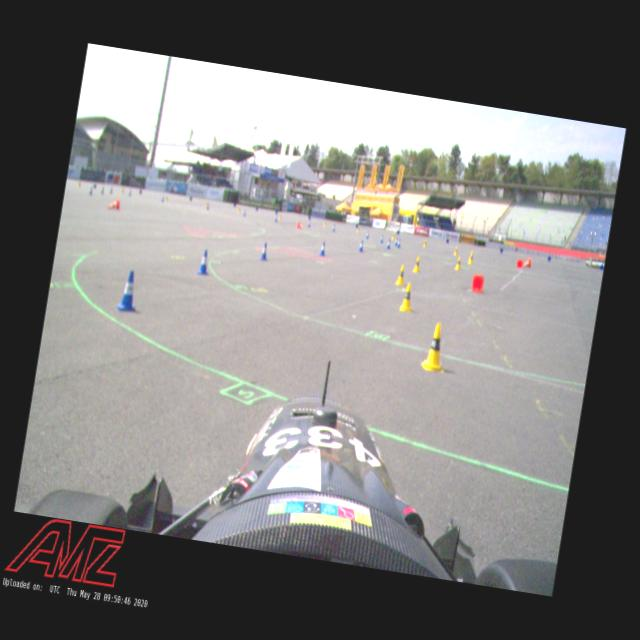blue_cone: (116, 268, 142, 314), (196, 248, 212, 276), (258, 241, 270, 262), (319, 240, 328, 256), (358, 240, 365, 252), (386, 238, 392, 250), (396, 238, 402, 249), (365, 230, 370, 240), (394, 237, 399, 246), (380, 233, 384, 243), (547, 255, 552, 262), (274, 215, 279, 222), (332, 224, 336, 232), (307, 220, 311, 228), (500, 246, 504, 253), (446, 238, 449, 244)
orange_cone: (471, 274, 485, 294), (106, 196, 122, 212), (296, 220, 306, 230), (524, 257, 532, 269), (516, 258, 524, 269)
yellow_cone: (419, 320, 452, 374), (398, 282, 416, 314), (395, 264, 407, 286), (412, 256, 422, 273), (454, 255, 462, 271), (468, 249, 475, 260), (468, 253, 474, 265), (453, 246, 459, 256), (422, 239, 428, 248), (323, 220, 328, 227), (392, 232, 396, 240), (278, 213, 282, 220), (357, 226, 360, 233)
